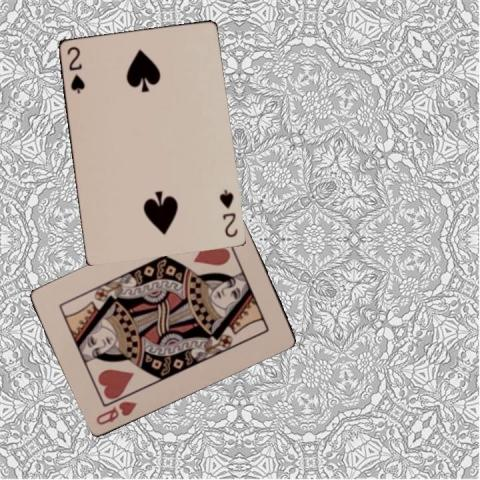2s: (216, 186, 239, 238), (64, 42, 86, 94)
Qh: (92, 397, 138, 426)
